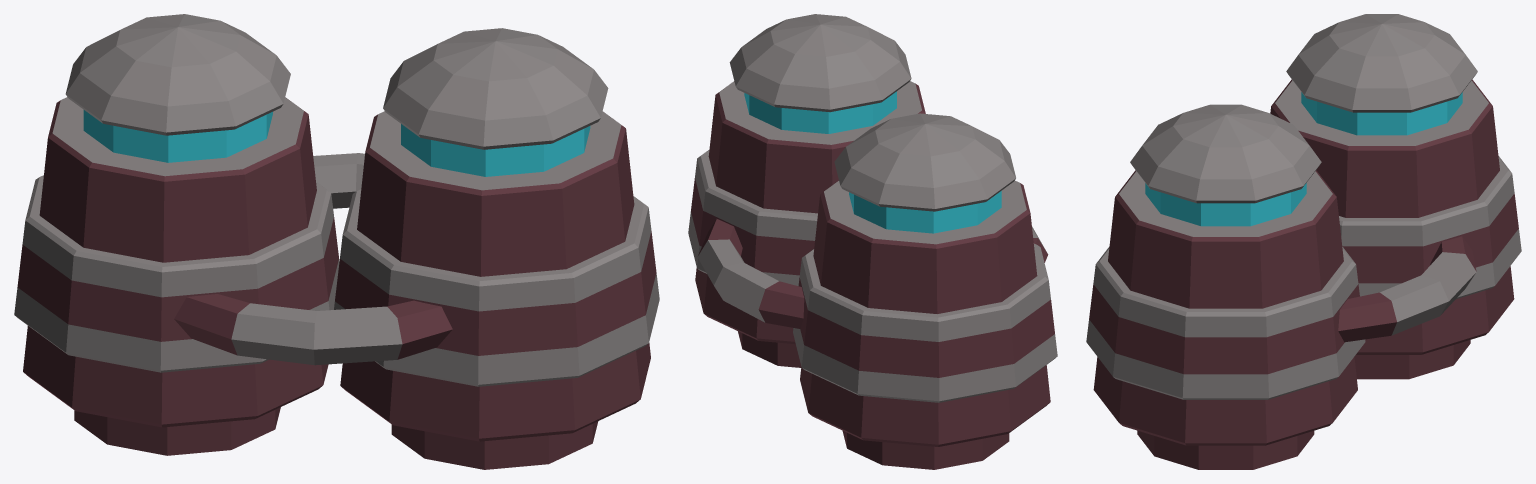
File: scifi-generator-double-small.fbx
3 renders of one model, left to right at view 1: azimuth 30°, elevation 25°; view 2: azimuth 150°, elevation 25°; view 3: azimuth 270°, elevation 25°, orthographic. The views are drawn at different scales.
Visible parts, largest first — view 1: scifi-generator-double-small; view 2: scifi-generator-double-small; view 3: scifi-generator-double-small.
Boxes of the visible parts, left/top/right/bottom form: scifi-generator-double-small: left=14, top=14, right=659, bottom=469; scifi-generator-double-small: left=688, top=14, right=1057, bottom=469; scifi-generator-double-small: left=1086, top=14, right=1521, bottom=469.
Size of the model in its own units: 3.62 by 2.66 by 3.28.
